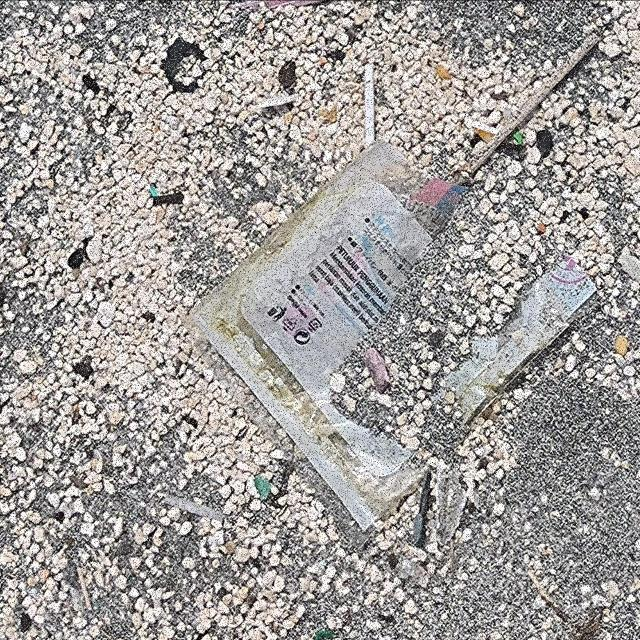plastic_waste: (188, 137, 602, 535)
